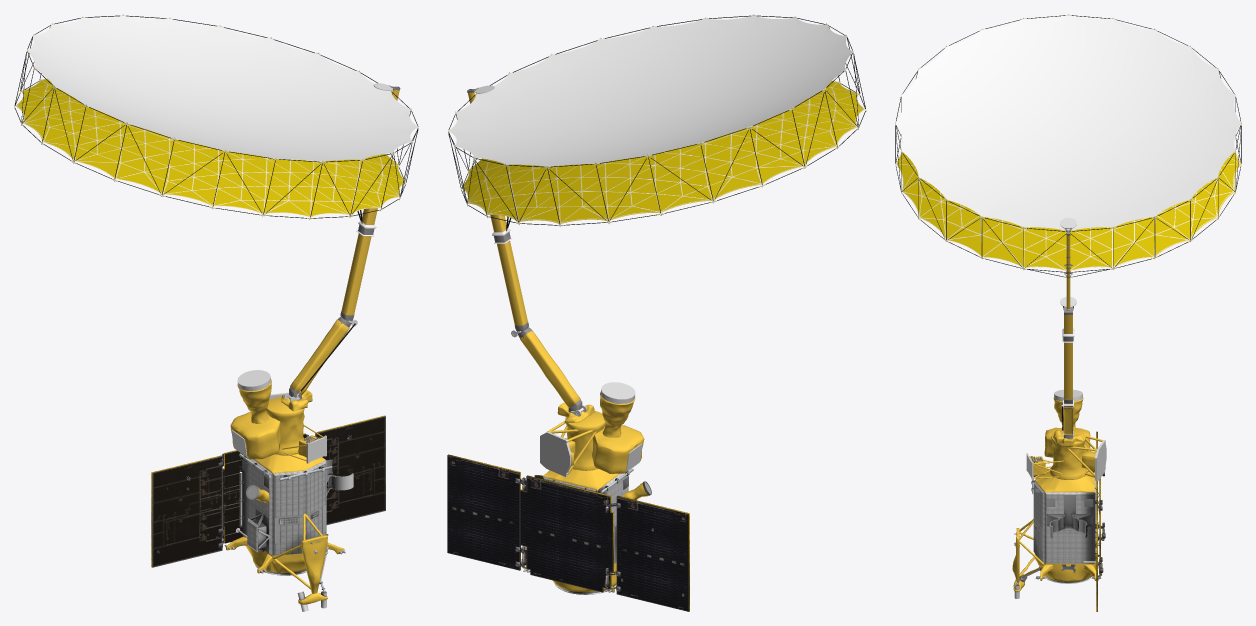
File: SMAP.glb
3 views of the same model, side by side, from view 1: azimuth 30°, elevation 25°; view 2: azimuth 150°, elevation 25°; view 3: azimuth 270°, elevation 25° (orthographic). The views are drawn at different scales.
Visible parts, largest first — view 1: antenna_03, antenna_01, array, bus_instruments, arm_etc.001, arm_etc, antenna_03.001, BUS, antenna_01.001; view 2: antenna_03, solar_array, antenna_01, arm_etc.001, arm_etc, antenna_03.001, antenna_01.001, BUS, bus_instruments, array; view 3: antenna_03, antenna_01, antenna_03.001, arm_etc.001, bus_instruments, arm_etc, BUS, antenna_01.001, array.
Boxes of the visible parts, x1,y1,x2,y2 form: antenna_03: (27,15,417,161); antenna_01: (15,78,405,216); array: (151,415,385,567); bus_instruments: (157,435,353,611); arm_etc.001: (14,14,418,463); arm_etc: (230,319,349,459); antenna_03.001: (29,19,413,160); BUS: (226,453,344,604); antenna_01.001: (18,80,402,216); antenna_03: (449,15,852,166); solar_array: (447,455,688,611); antenna_01: (461,81,864,223); arm_etc.001: (448,14,866,476); arm_etc: (520,330,644,473); antenna_03.001: (450,17,851,164); antenna_01.001: (464,84,863,222); BUS: (524,469,648,592); bus_instruments: (523,468,684,596); array: (447,454,689,611); antenna_03: (896,15,1240,230); antenna_01: (896,136,1240,270); antenna_03.001: (897,17,1234,229); arm_etc.001: (895,14,1241,480); bus_instruments: (1014,468,1104,598); arm_etc: (1030,398,1102,479); BUS: (1012,469,1096,591); antenna_01.001: (897,153,1237,270); array: (1096,431,1105,611).
Size of the model in its own units: 6.42 by 9.52 by 6.19.
12 materials, 5 textured.
